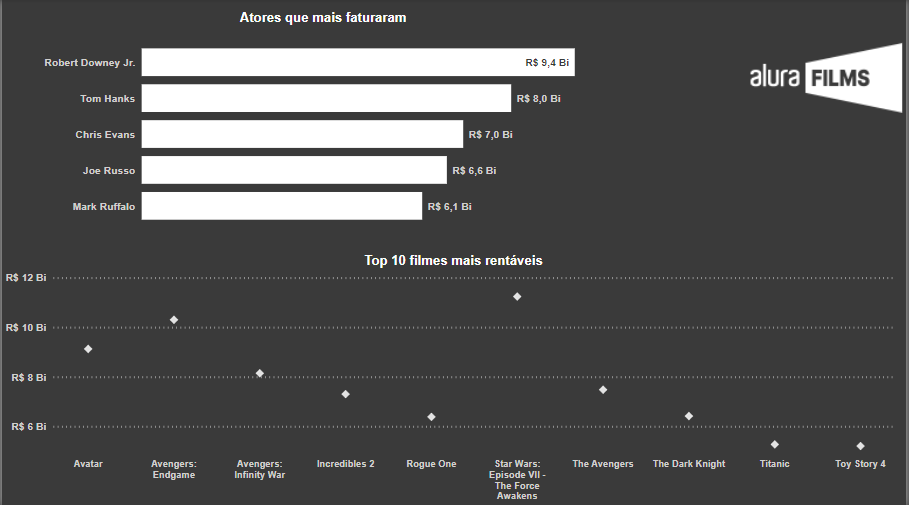

The page's visual inventory and layout, read from the dashboard file:
{"tool":"powerbi","page":{"name":"Página 2","canvas":[1280,720],"ordinal":1},"visuals":[{"type":"barChart","title":"Atores que mais faturaram","fields":{"Category":["Filmes.Mesclado"],"Y":["Filmes.Gross"]},"box":[53.4,15.7,802.6,323.5],"z":0},{"type":"scatterChart","title":"Top 10 filmes mais rentáveis","fields":{"Y":["Filmes.Gross"],"X":["Filmes.Series_Title"]},"box":[0,359.7,1280,359.7],"z":1000},{"type":"image","box":[1055.4,55,224.6,111.5],"z":2000}]}

Visuals, with their boxes in screenshot pixels (x1, y1, x2, y2), scaled from the page's 1280x720 canvas onto the 909x505 screenshot:
"Atores que mais faturaram" barChart: [38,11,608,238]
"Top 10 filmes mais rentáveis" scatterChart: [0,252,908,504]
image: [749,39,908,117]
